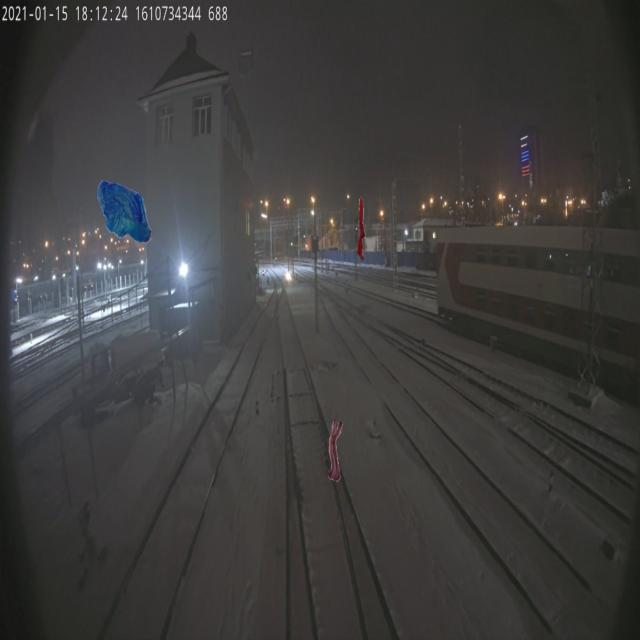floating object: (328, 418, 343, 482), (356, 197, 366, 260)
plastic bag: (97, 179, 152, 243)
